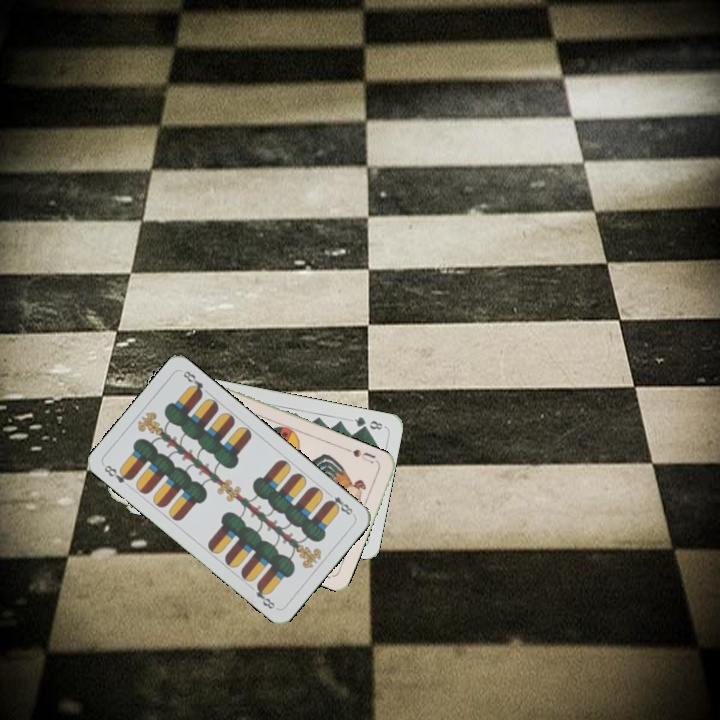E8: (323, 488, 355, 518), (100, 461, 135, 486)
G8: (350, 412, 385, 432)
SU: (342, 444, 381, 466)
